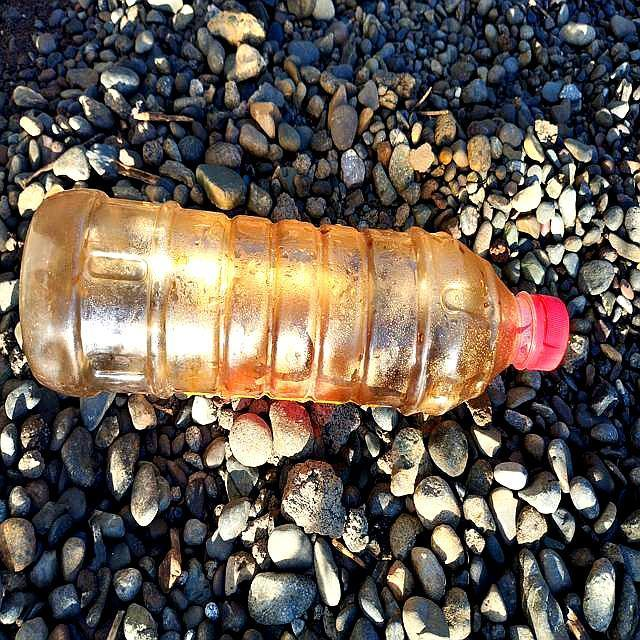Non-biodegradable: (24, 188, 570, 419)
